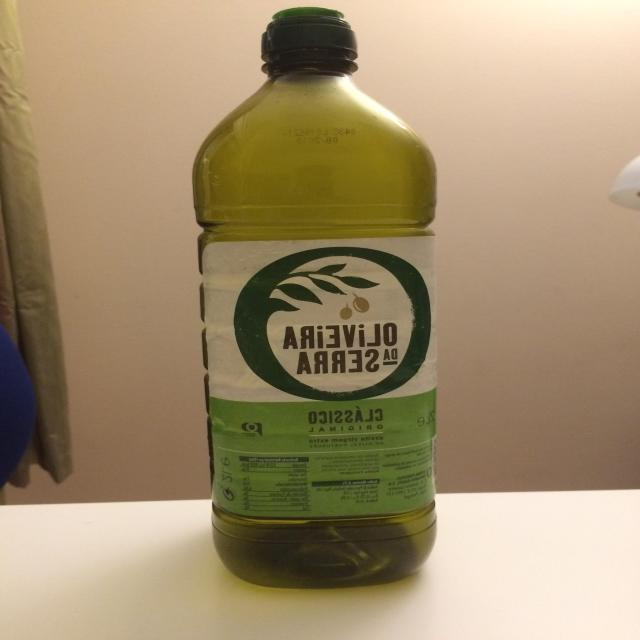plastic: (195, 7, 438, 594)
